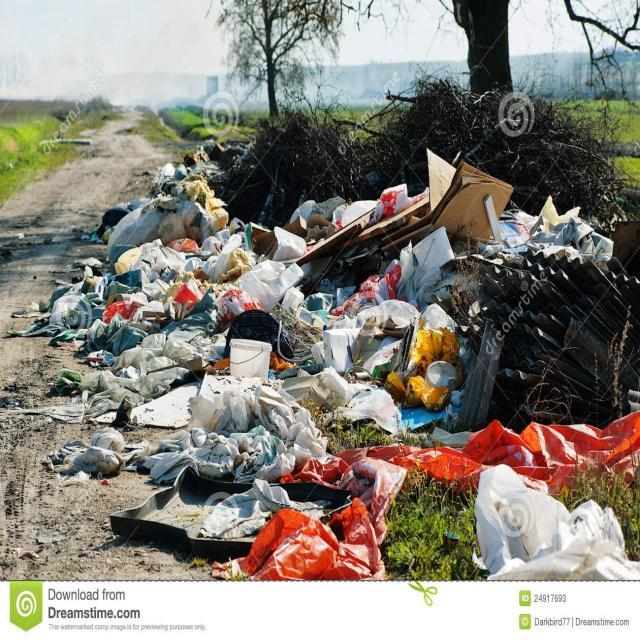plastic: (42, 177, 367, 574), (378, 182, 640, 476)
